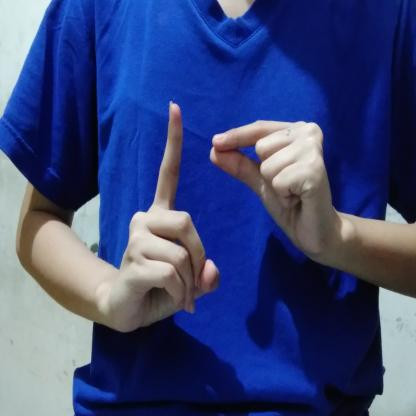son: (98, 95, 351, 340)
